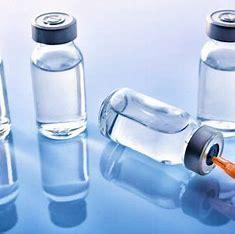Syringe: (96, 78, 226, 179), (21, 6, 91, 140), (194, 4, 235, 137)
